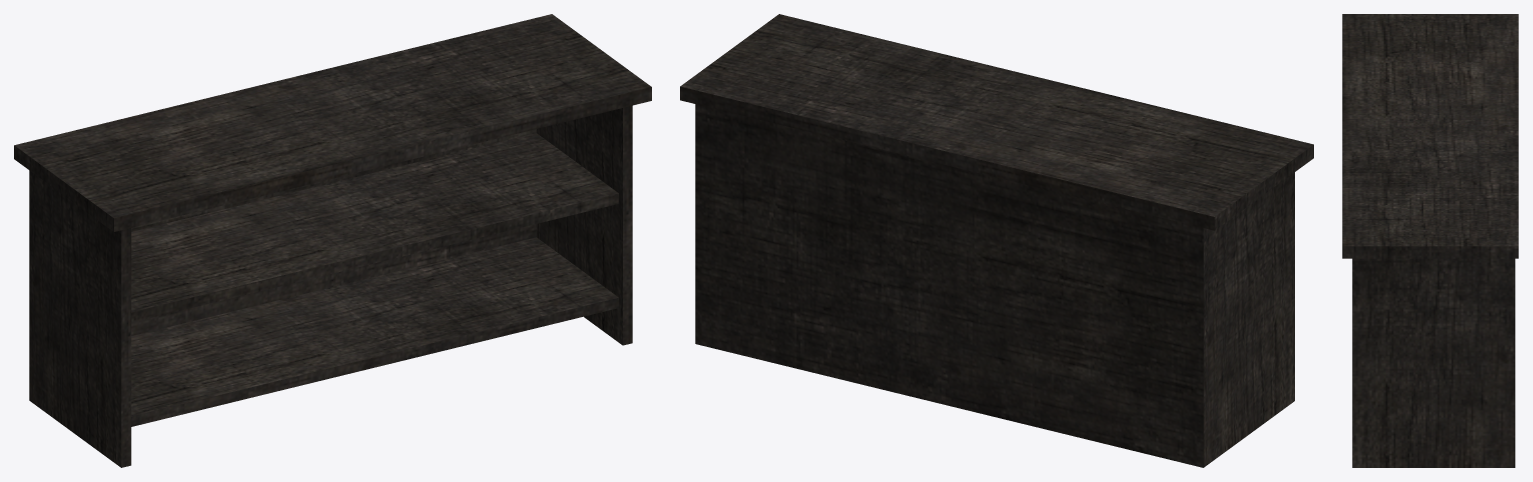
File: tv_table_1.obj
3 renders of one model, left to right at view 1: azimuth 30°, elevation 25°; view 2: azimuth 150°, elevation 25°; view 3: azimuth 270°, elevation 25°, orthographic. The views are drawn at different scales.
Parts seen in each view (by area): view 1: tv_table_1; view 2: tv_table_1; view 3: tv_table_1.
Boxes of the visible parts, bbox=[...] form: tv_table_1: bbox=[14, 14, 651, 467]; tv_table_1: bbox=[680, 14, 1313, 467]; tv_table_1: bbox=[1342, 14, 1518, 467].
Size of the model in its own units: 1.62 by 0.74 by 0.52.
